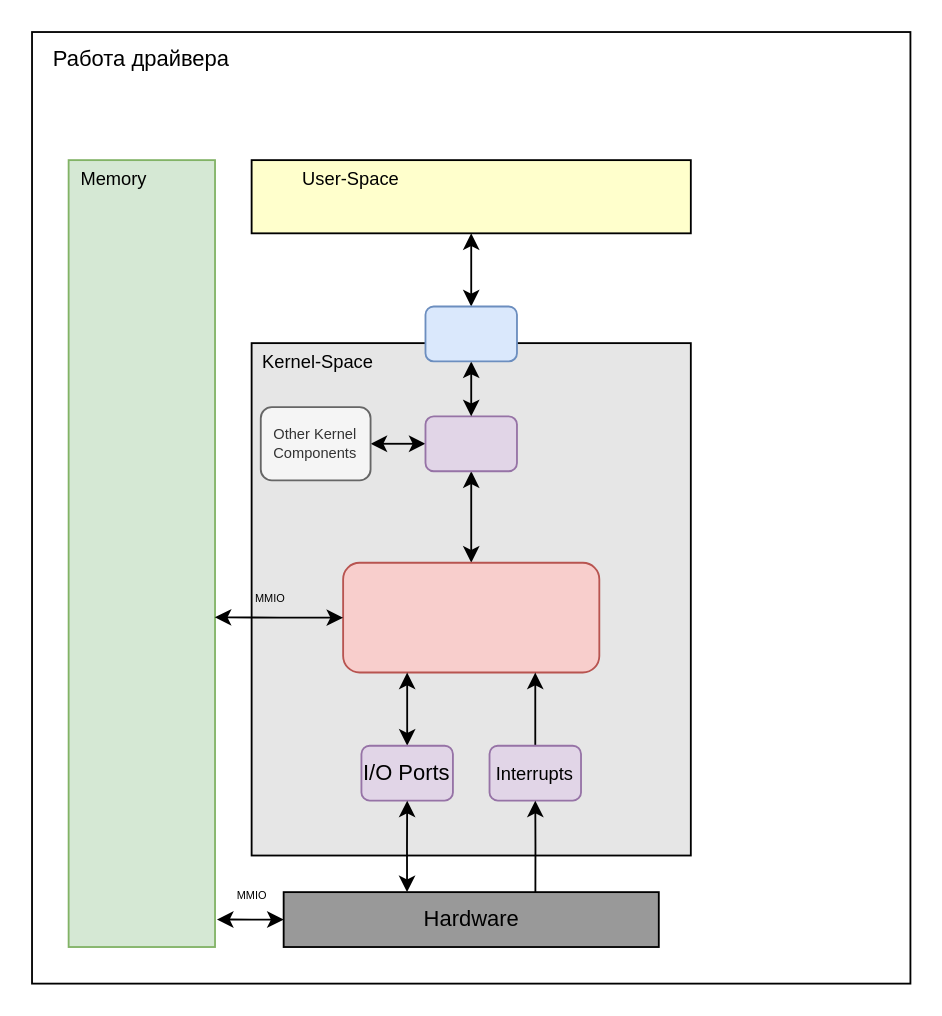
Image size: 942x1016. Some labels were removed from this diagram. Here are the shapes that lost their labels. From the top down, the centre of each, then its label:
point 470,333: Syscall
point 470,442: API
point 470,617: Driver
